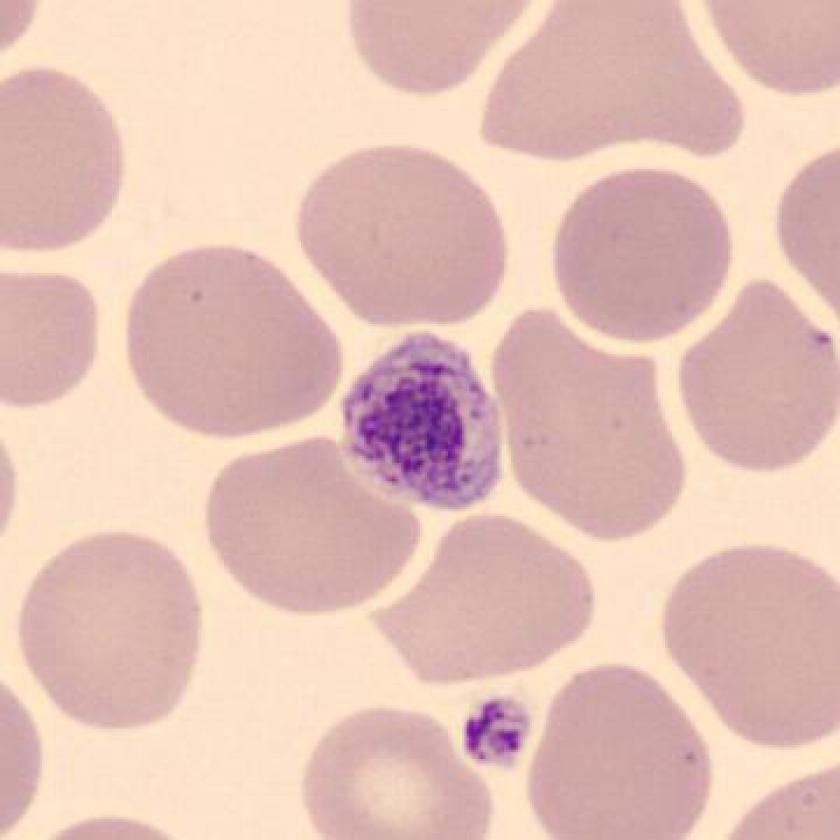platelets: (339, 328, 517, 513), (454, 688, 540, 772)
